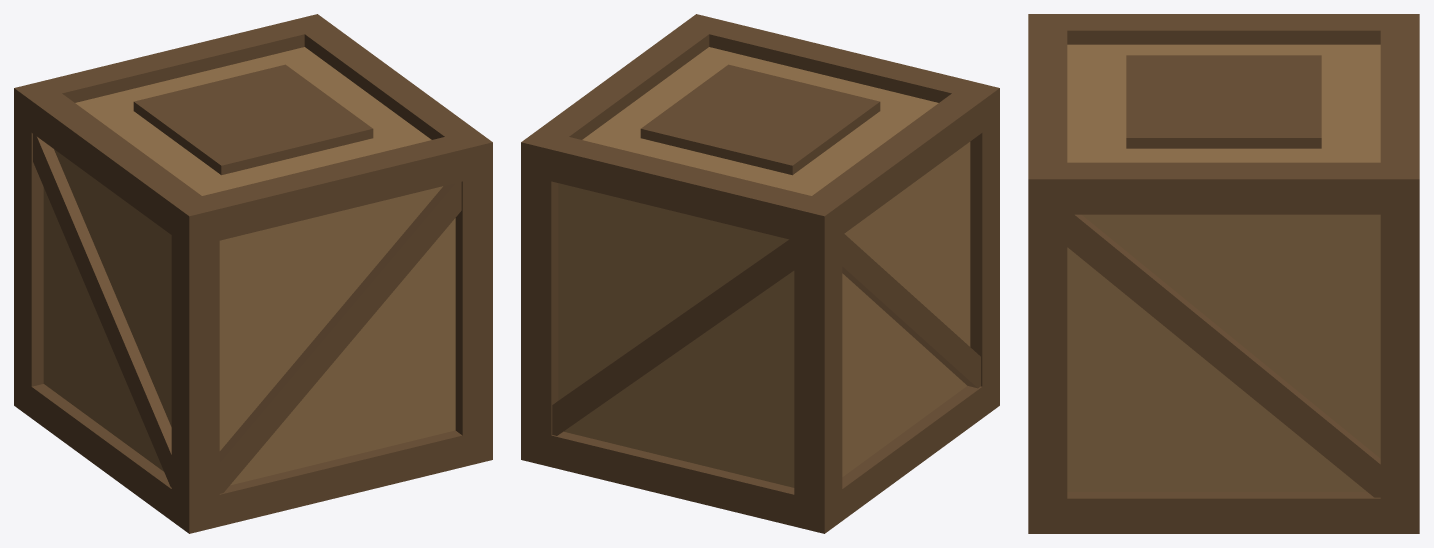
Rendered from Env_Crate.fbx.
3 renders of one model, left to right at view 1: azimuth 30°, elevation 25°; view 2: azimuth 150°, elevation 25°; view 3: azimuth 270°, elevation 25°, orthographic. The views are drawn at different scales.
Parts seen in each view (by area): view 1: Env_Crate; view 2: Env_Crate; view 3: Env_Crate.
Boxes of the visible parts, x1,y1,x2,y2 form: Env_Crate: [14, 14, 492, 533]; Env_Crate: [521, 14, 999, 533]; Env_Crate: [1028, 14, 1419, 533].
Size of the model in its own units: 1 by 1 by 1.
